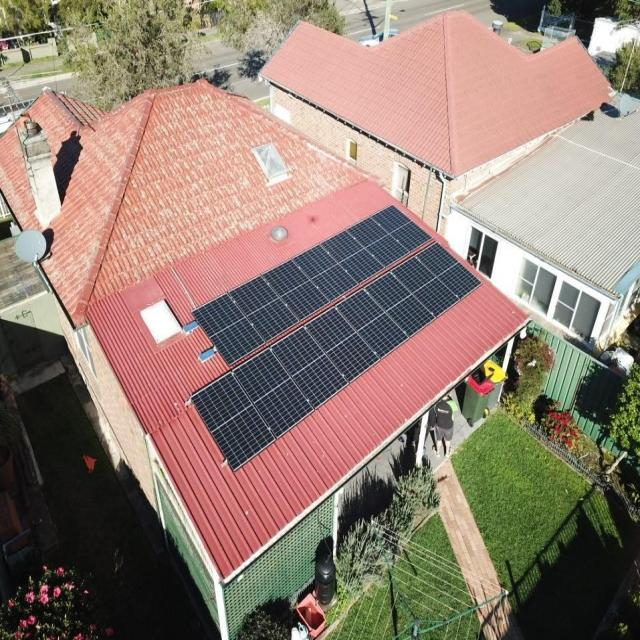clean-solar-panel: (191, 205, 480, 470)
